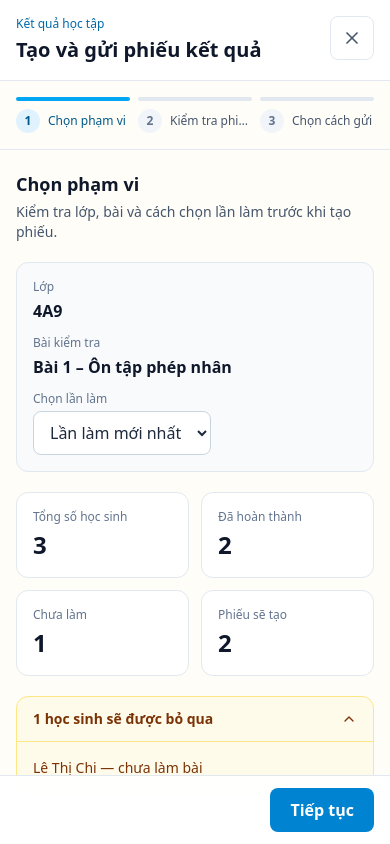
class result report delivery wizard › keeps mobile cards and sticky actions inside a 390px viewport
This screenshot has width=390, height=844.
Click the button "Tiếp tục" at (322, 810), box [270, 788, 374, 832]
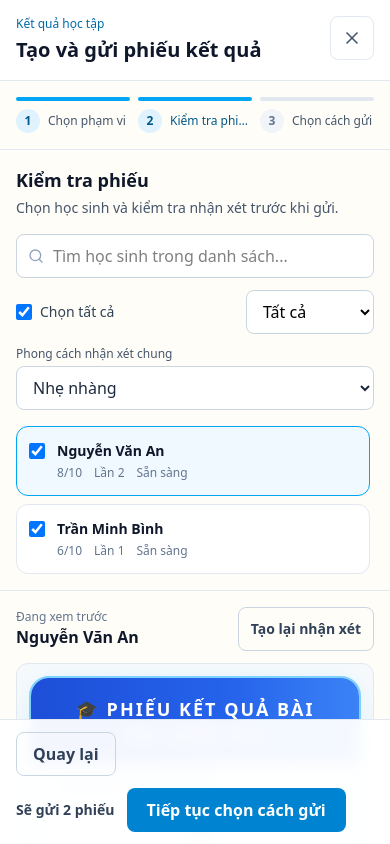
Now the element with test id "result-report-student-list" is shown, box [16, 426, 374, 574]
Click the button "Tiếp tục chọn cách gửi" at (237, 810), box [127, 788, 346, 832]
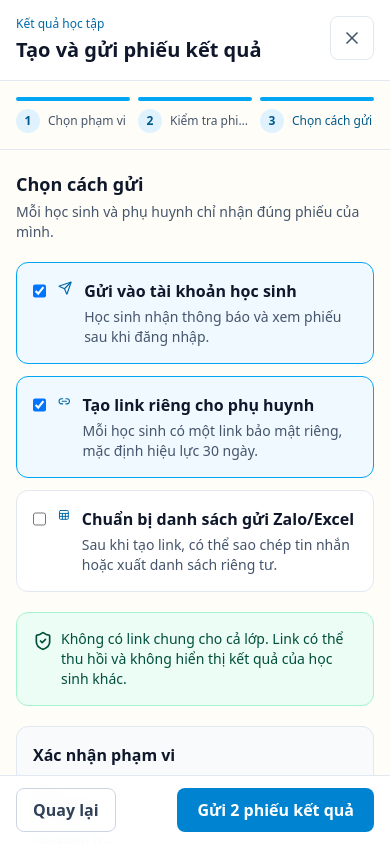
Now the button "Gửi 2 phiếu kết quả" is shown, box [178, 788, 374, 832]
